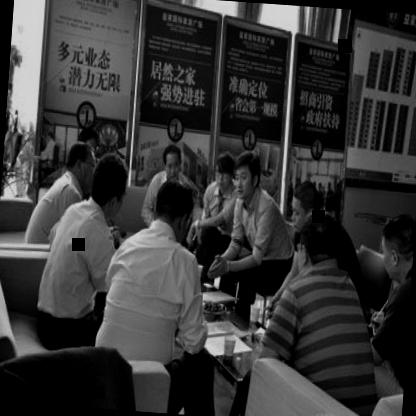head: (293, 209, 349, 278), (147, 177, 196, 244), (89, 152, 131, 223), (377, 212, 416, 286), (65, 138, 97, 195), (289, 178, 320, 233), (234, 154, 262, 202), (160, 142, 188, 184), (213, 152, 237, 192)
